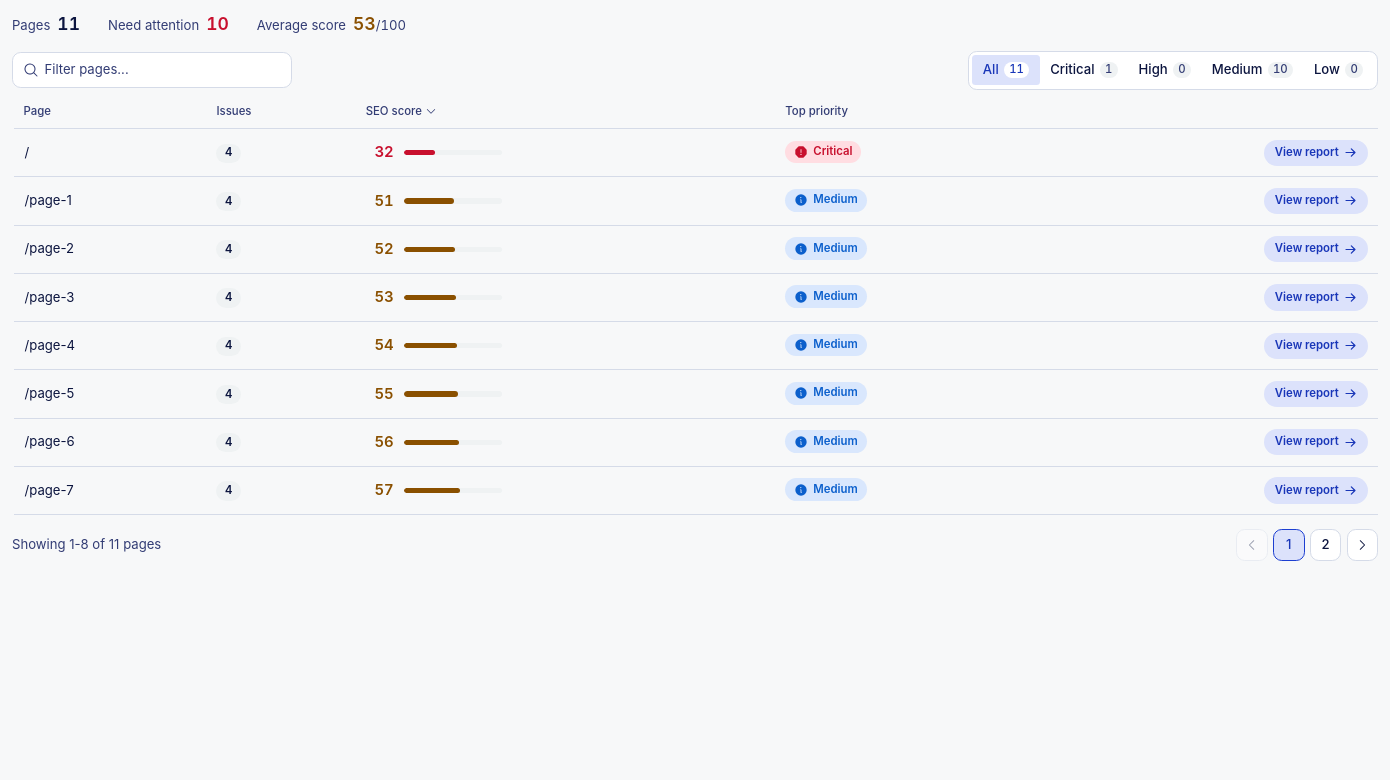
Scenario: AuditPageTable › opens a page's report in place and closes it again
Click the button with aria-label "View the report for /" at (1316, 153), box [1264,140,1368,166]
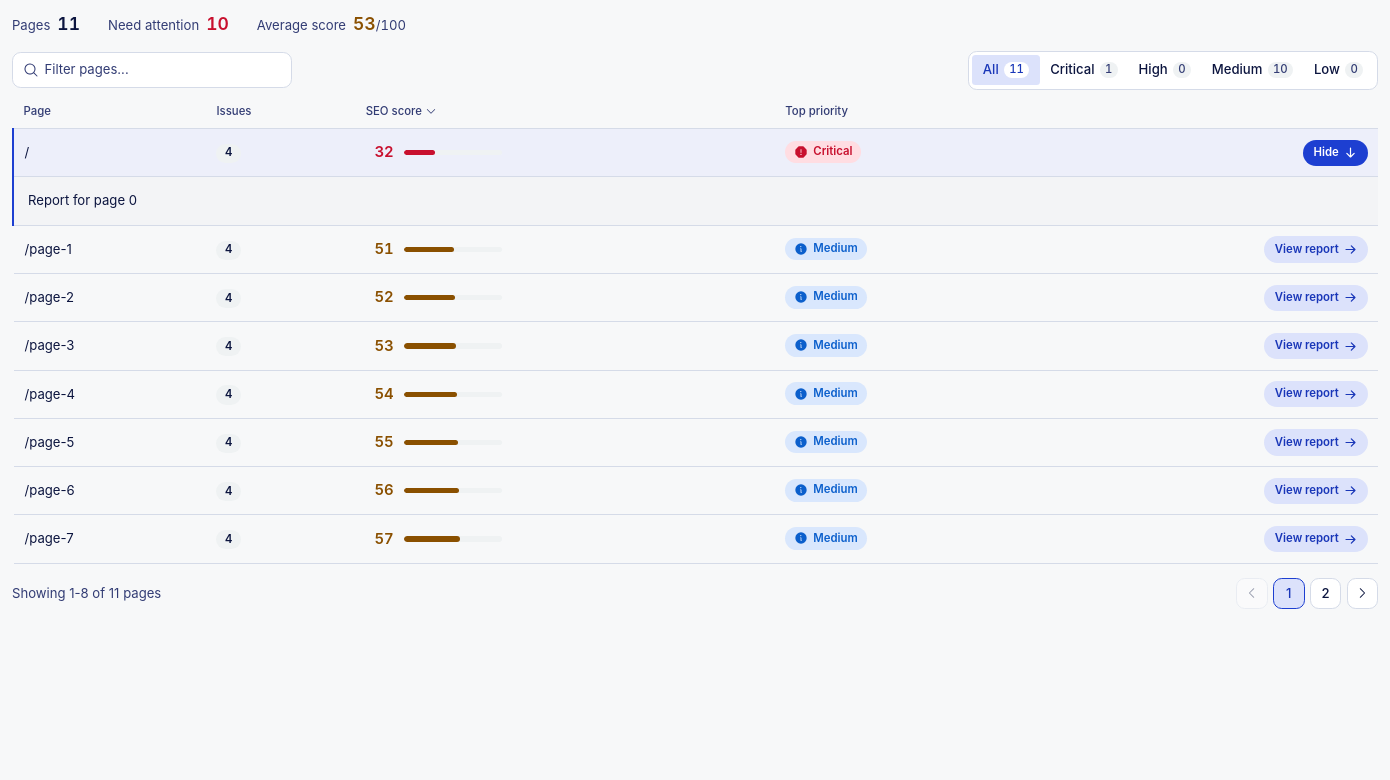
expect the text "Report for page 0" is shown: met, box [28,192,137,208]
Click the button with aria-label "Hide the report for /" at (1335, 153), box [1303,140,1368,166]
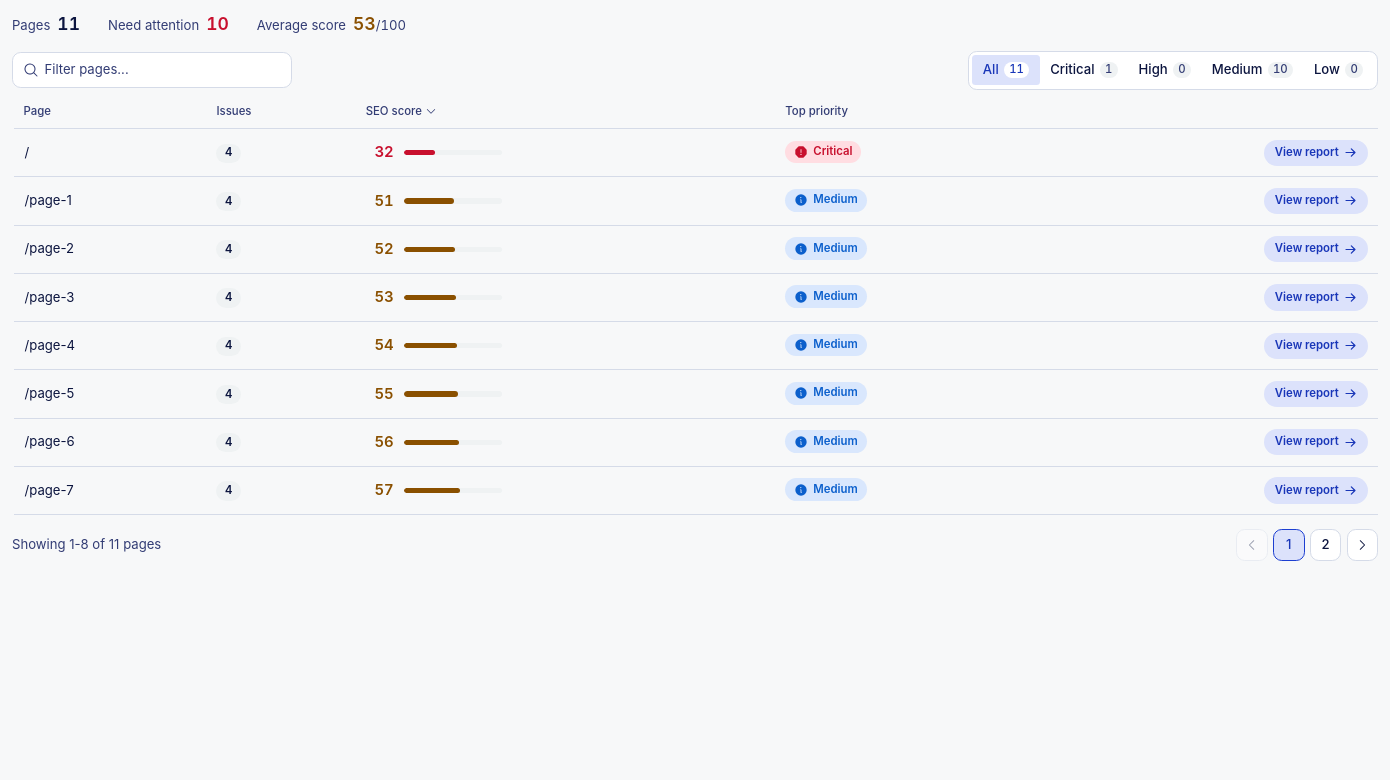
expect the text "Report for page 0" is gone: met
